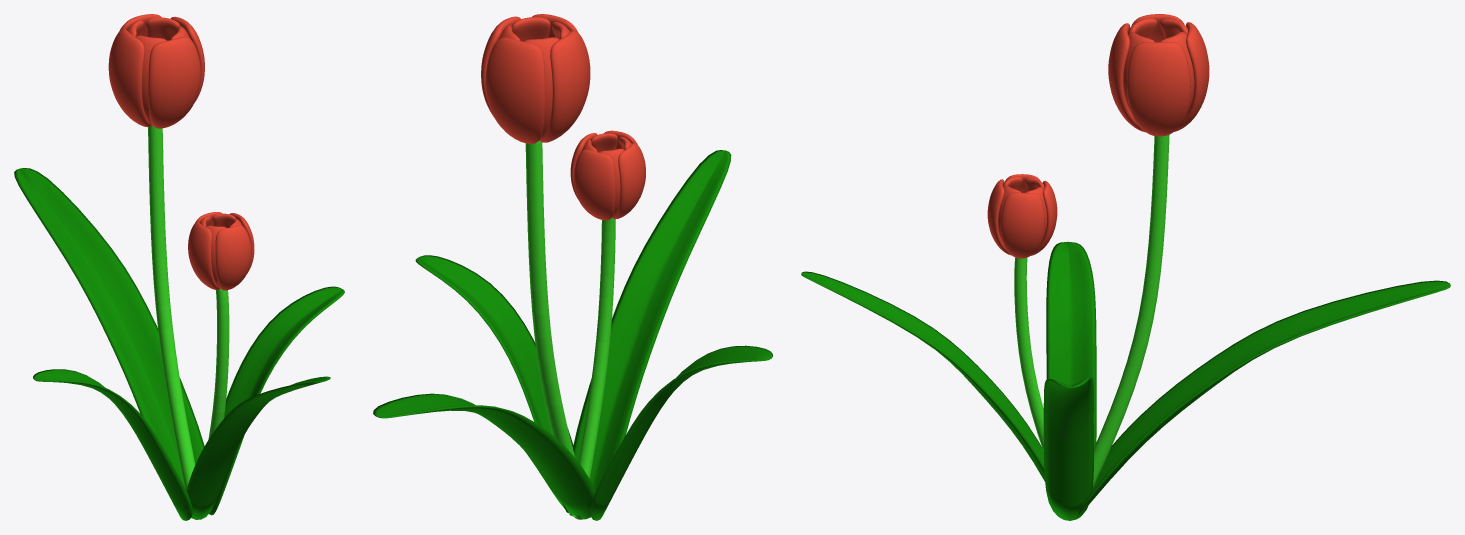
File: tulips (1).fbx
3 renders of one model, left to right at view 1: azimuth 30°, elevation 25°; view 2: azimuth 150°, elevation 25°; view 3: azimuth 270°, elevation 25°, orthographic. The views are drawn at different scales.
Parts seen in each view (by area): view 1: Cube; view 2: Cube; view 3: Cube.
Part boxes in pixels (x1,y1,x2,y2): Cube: (14,14,344,520); Cube: (373,14,772,520); Cube: (801,14,1450,520).
Size of the model in its own units: 21 by 29.78 by 35.86.
